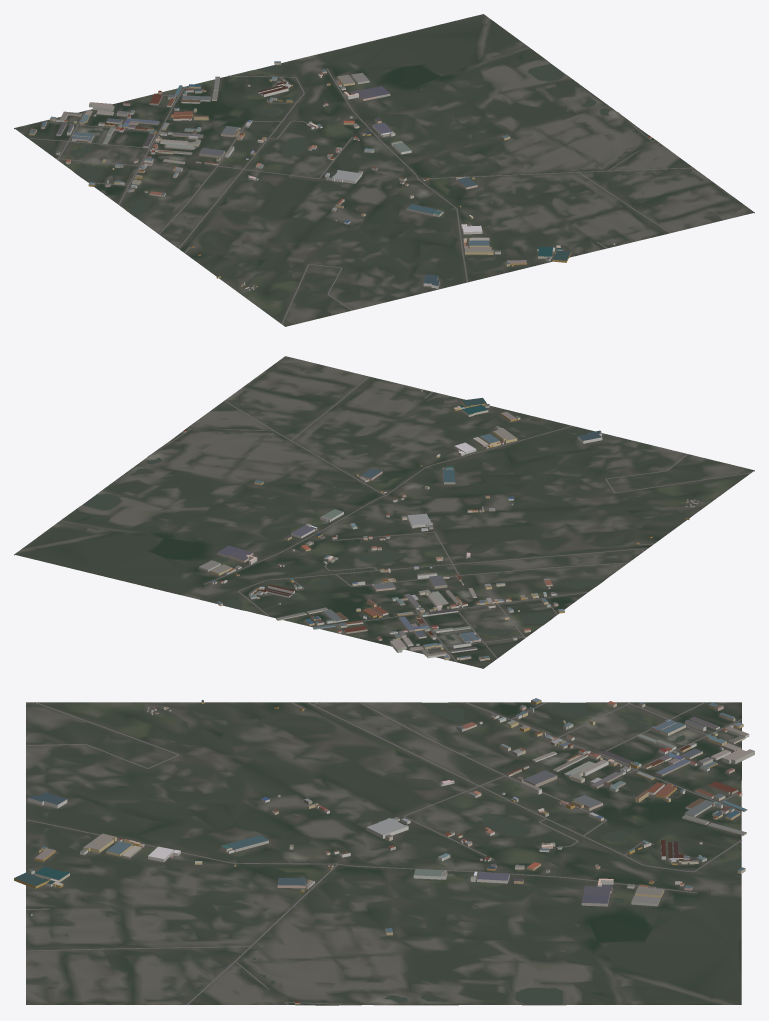
The picture shows the model from 3 angles, top to bottom: view 1: azimuth 30°, elevation 25°; view 2: azimuth 150°, elevation 25°; view 3: azimuth 270°, elevation 25°; orthographic projection. The views are drawn at different scales.
Parts seen in each view (by area): view 1: ground, buildings, roads, water; view 2: ground, buildings, roads, water; view 3: ground, buildings, roads, water.
Boxes of the visible parts, x1,y1,x2,y2 form: ground: [14, 14, 754, 326]; buildings: [29, 61, 651, 290]; roads: [28, 68, 693, 324]; water: [70, 64, 628, 216]; ground: [14, 356, 754, 668]; buildings: [183, 390, 698, 661]; roads: [148, 376, 751, 662]; water: [83, 432, 602, 640]; ground: [26, 702, 741, 1005]; buildings: [14, 698, 754, 1004]; roads: [26, 702, 741, 1005]; water: [252, 703, 741, 1004].
Bounding box in the file's own units: 1413 × 14.36 × 1451.
